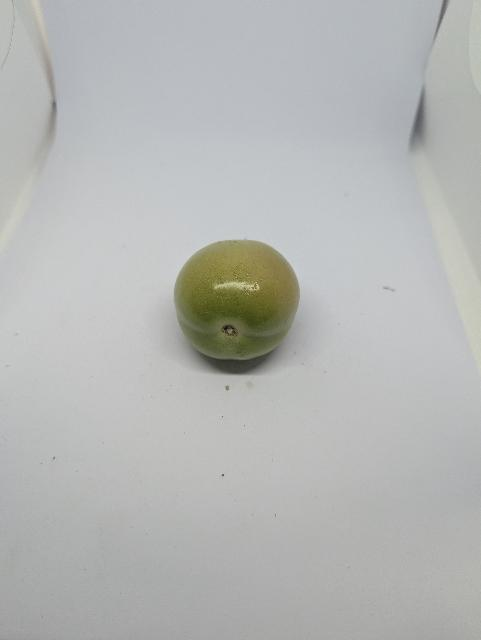green: (173, 237, 303, 368)
